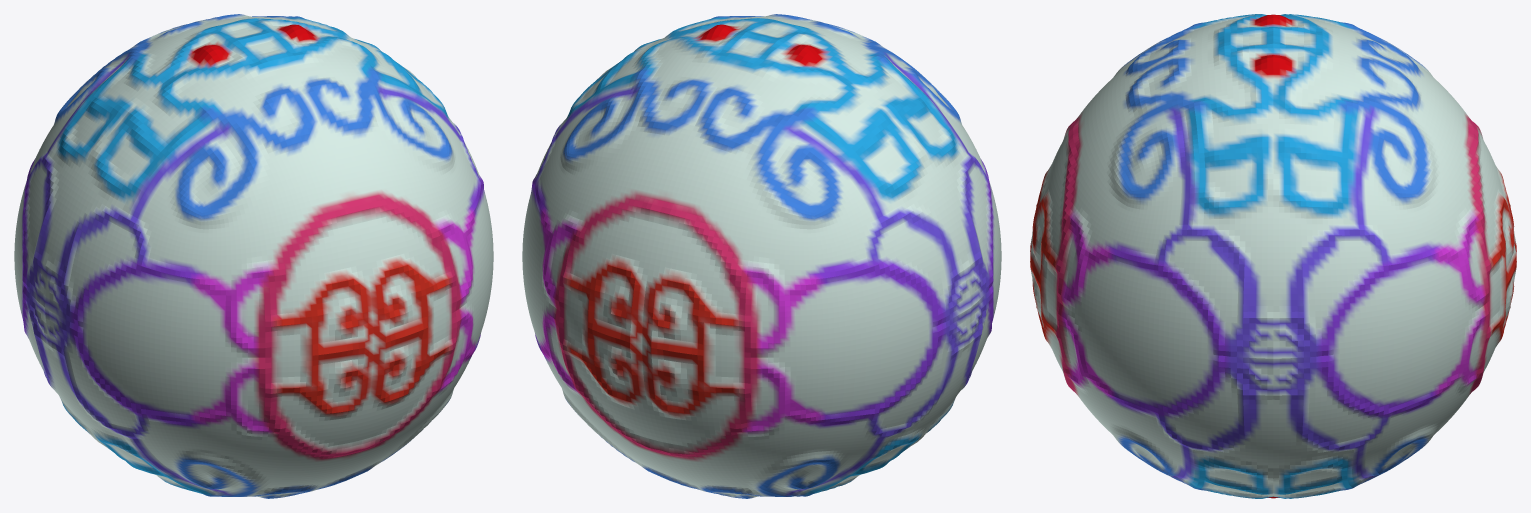
File: Ball.glb
3 views of the same model, side by side, from view 1: azimuth 30°, elevation 25°; view 2: azimuth 150°, elevation 25°; view 3: azimuth 270°, elevation 25° (orthographic).
Parts seen in each view (by area): view 1: Quad Sphere; view 2: Quad Sphere; view 3: Quad Sphere.
Boxes of the visible parts, x1,y1,x2,y2 form: Quad Sphere: (14, 14, 493, 498); Quad Sphere: (522, 14, 1001, 498); Quad Sphere: (1030, 14, 1516, 498).
Bounding box in the file's own units: 2.59 × 2.61 × 2.6.
